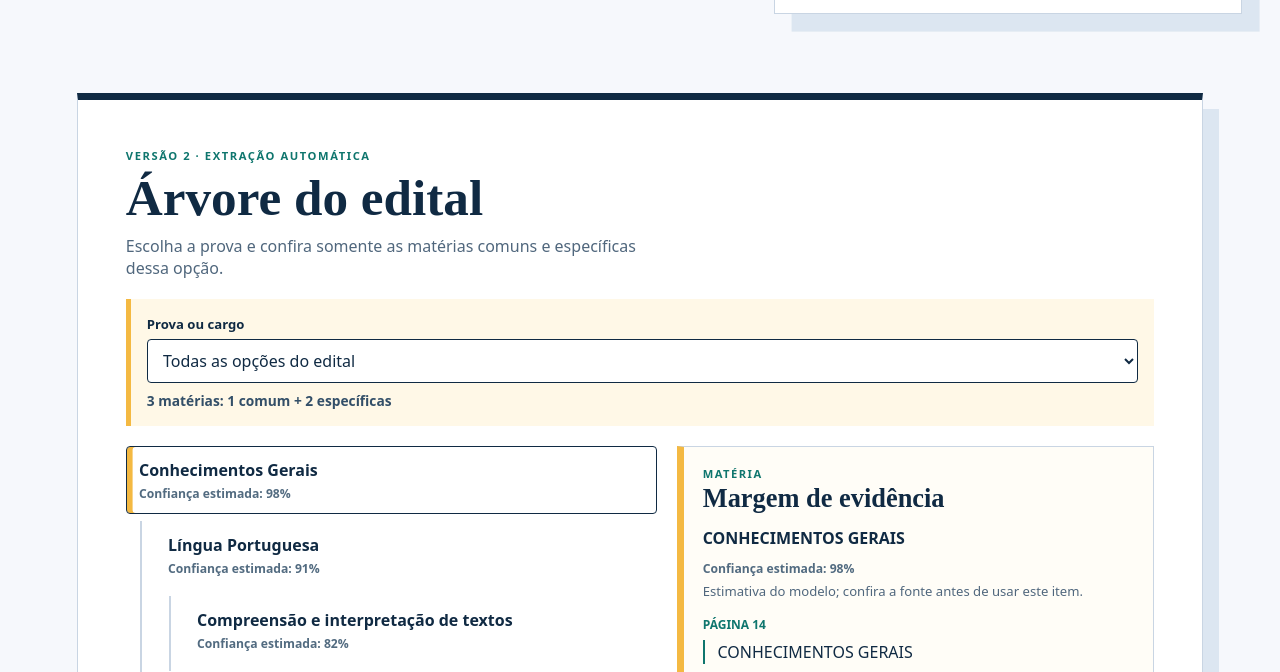
Test: consultable verticalization tree › filters the tree by the selected exam option while preserving common subjects
(page scrolled)
Select "PERFIL 2 · Arquitetura e Sustentação" in the dropdown labelled "Prova ou cargo": (642, 361) [147, 339, 1138, 383]
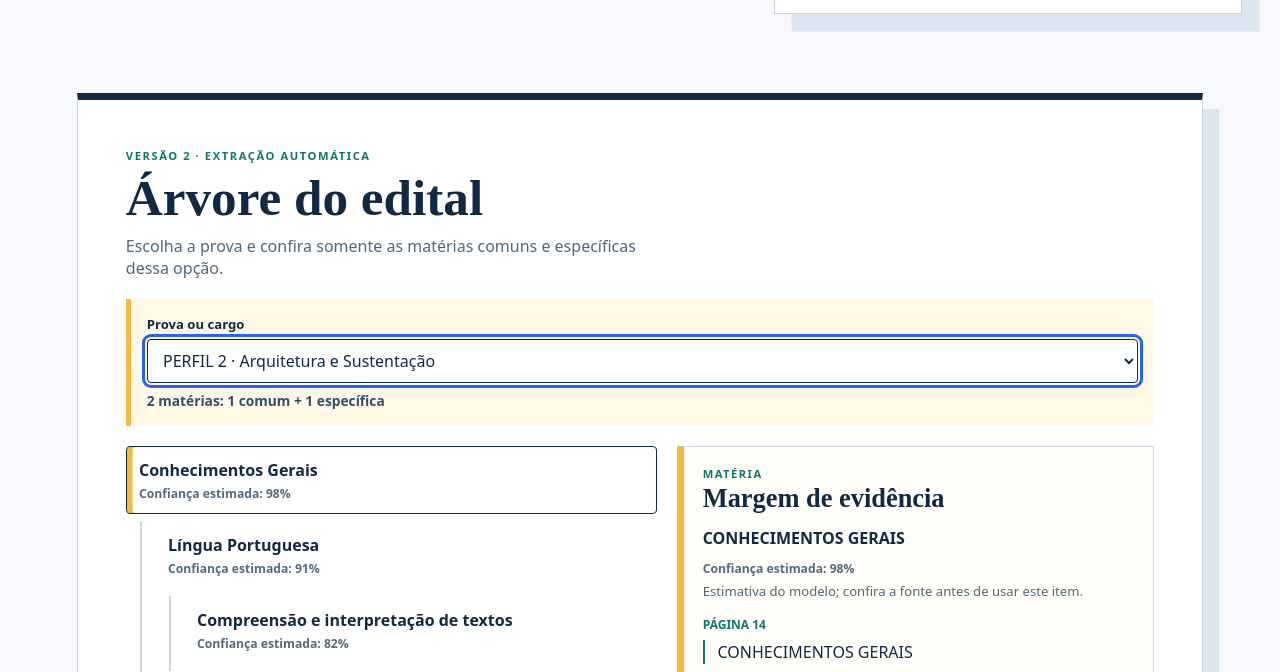
Check: the button "Conhecimentos Gerais Confiança estimada: 98%" is shown, box [126, 446, 656, 514]
Check: the text "2 matérias: 1 comum + 1 específica" is shown, box [147, 391, 385, 410]
